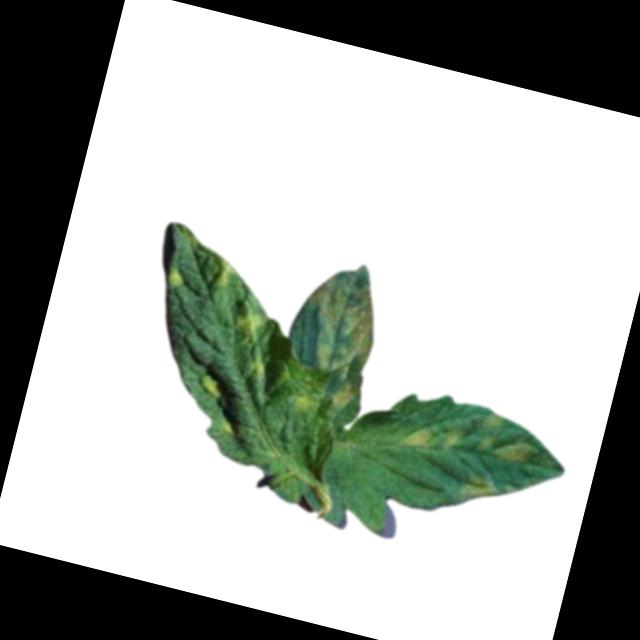Leaf_Mold: (280, 257, 396, 417), (473, 410, 543, 466), (398, 412, 465, 461), (227, 304, 279, 351), (457, 472, 502, 509), (241, 347, 279, 386), (286, 385, 323, 422), (206, 253, 240, 293), (162, 263, 195, 291), (200, 372, 230, 398)
